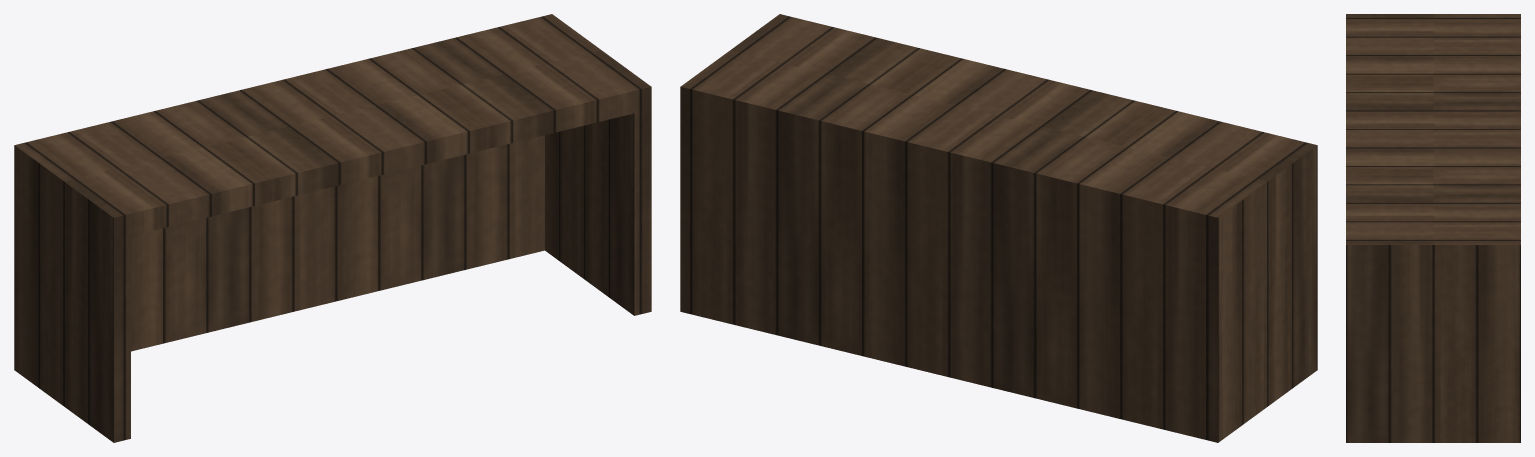
Rendered from Desk_Counter_1_LOD2.gltf.
The picture shows the model from 3 angles, left to right: view 1: azimuth 30°, elevation 25°; view 2: azimuth 150°, elevation 25°; view 3: azimuth 270°, elevation 25°; orthographic projection. The views are drawn at different scales.
Visible parts, largest first — view 1: Desk_Counter_1_LOD2; view 2: Desk_Counter_1_LOD2; view 3: Desk_Counter_1_LOD2.
Part boxes in pixels (x1,y1,x2,y2): Desk_Counter_1_LOD2: (14, 14, 651, 442); Desk_Counter_1_LOD2: (680, 14, 1317, 442); Desk_Counter_1_LOD2: (1346, 14, 1520, 442).
Bounding box in the file's own units: 2.5 × 1 × 0.8.
1 material, 1 textured.
